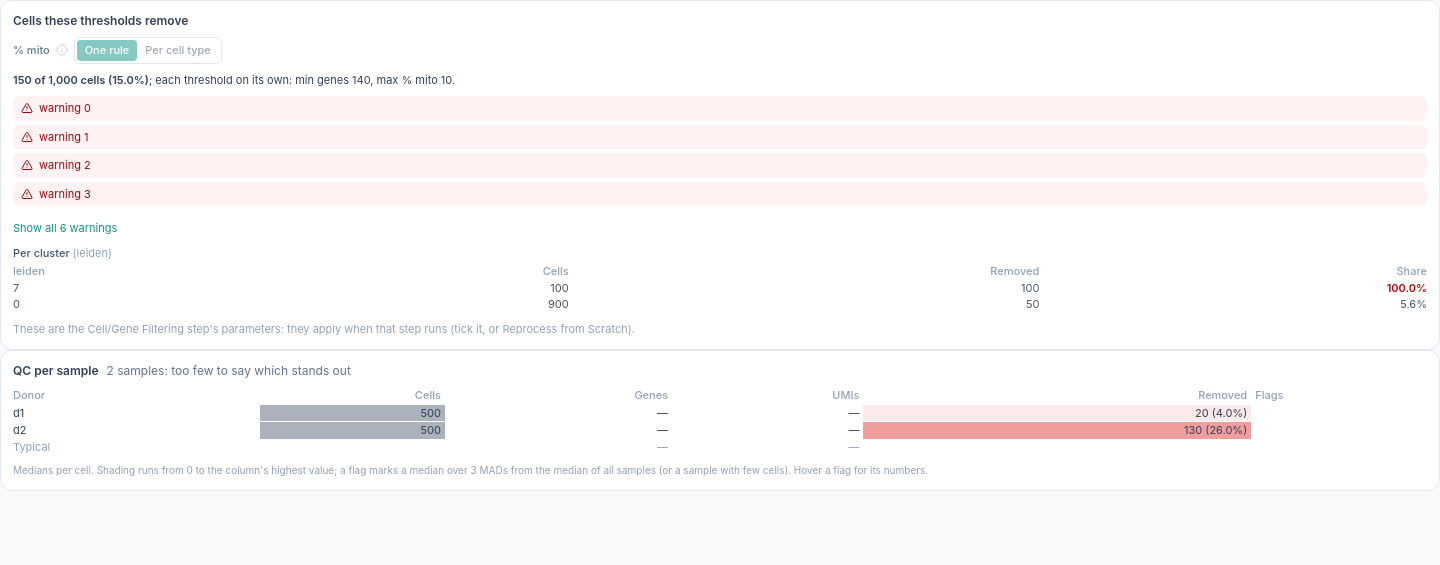
Test: QcFilterSummary › lists the first few warnings, the rest on request
expect the number of list items is 4: met, box [13, 96, 1427, 120]; [13, 124, 1427, 149]; [13, 153, 1427, 178]; [13, 182, 1427, 206]
Click the button "Show all 6 warnings" at (65, 228), box [13, 220, 117, 236]
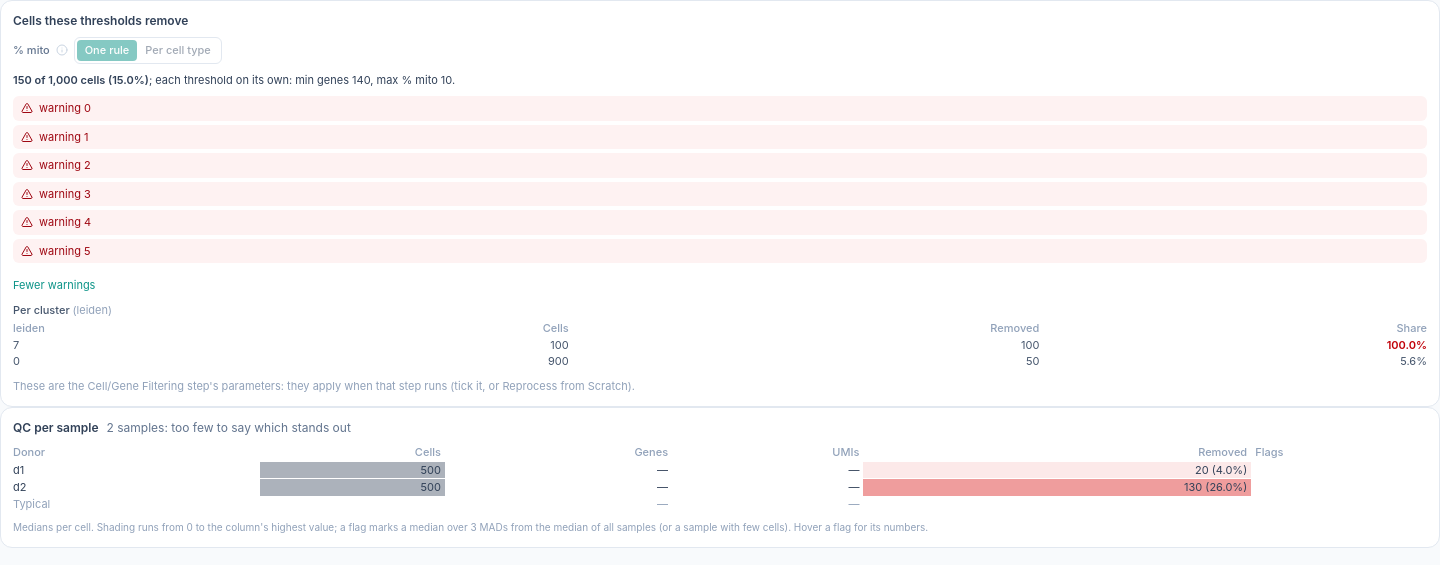
expect the number of list items is 6: met, box [13, 96, 1427, 120]; [13, 124, 1427, 149]; [13, 153, 1427, 178]; [13, 182, 1427, 206]; [13, 210, 1427, 234]; [13, 238, 1427, 263]
